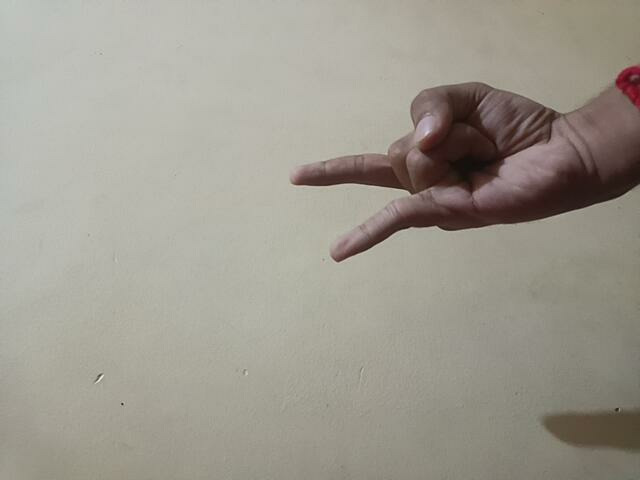Rock: (290, 83, 602, 264)
